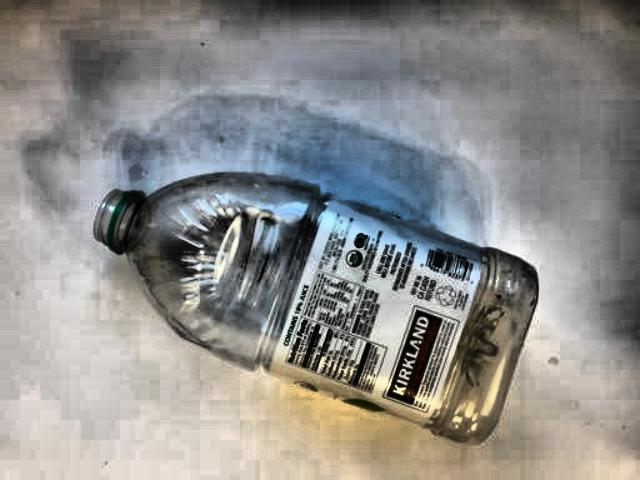Bottles: (51, 144, 587, 480)
